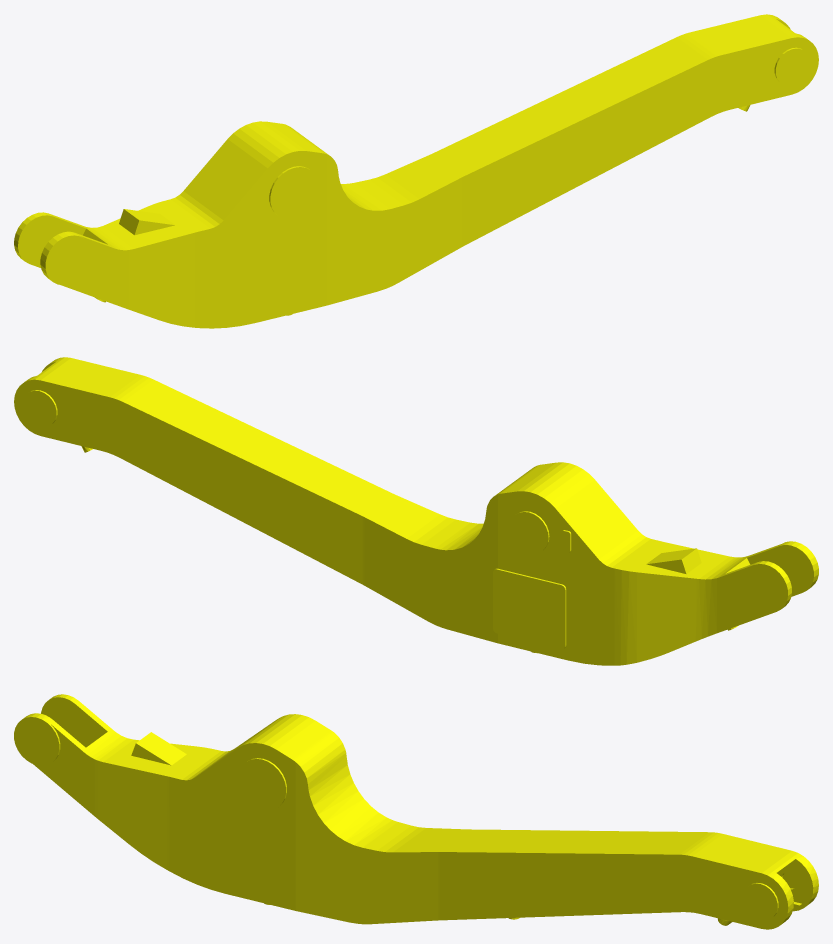
3 views of the same model, one above another, from view 1: azimuth 30°, elevation 25°; view 2: azimuth 150°, elevation 25°; view 3: azimuth 330°, elevation 25° (orthographic).
Parts seen in each view (by area): view 1: node; view 2: node; view 3: node.
Part boxes in pixels (<box>): node: <box>14,14,818,328</box>; node: <box>14,357,818,665</box>; node: <box>14,694,818,929</box>.
Size of the model in its own units: 2019 by 410 by 198.
